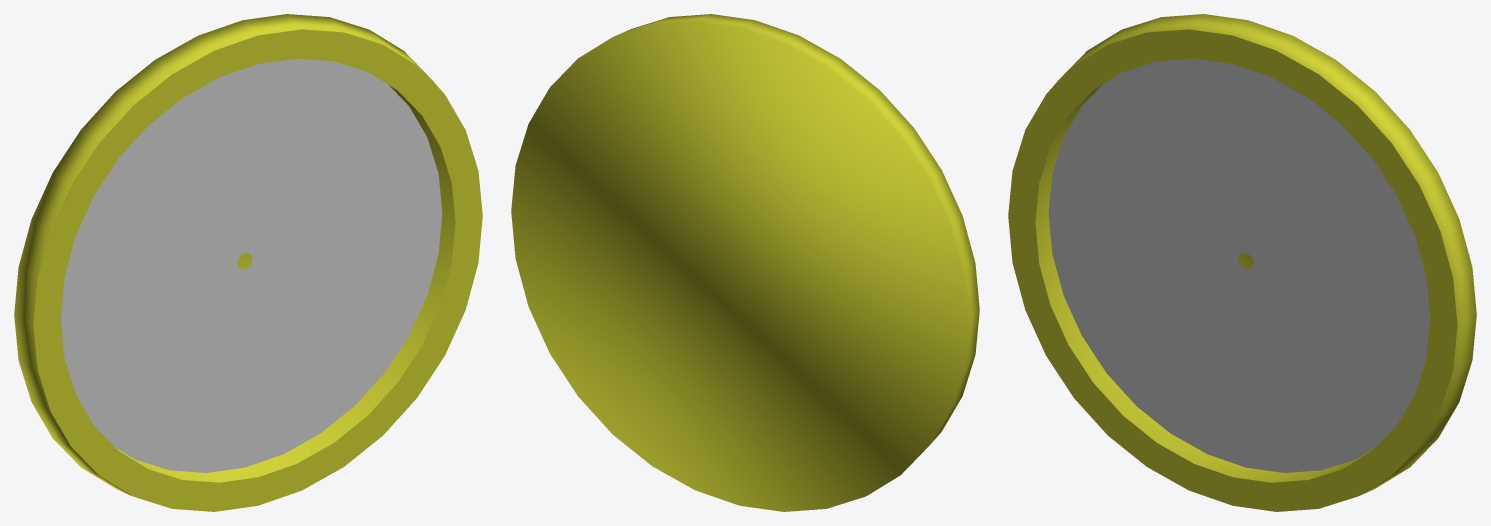
File: Zegar.fbx
The picture shows the model from 3 angles, left to right: view 1: azimuth 30°, elevation 25°; view 2: azimuth 150°, elevation 25°; view 3: azimuth 330°, elevation 25°; orthographic projection.
Parts seen in each view (by area): view 1: Zegar; view 2: Zegar; view 3: Zegar.
Boxes of the visible parts, x1,y1,x2,y2 form: Zegar: (14,14,482,511); Zegar: (511,14,979,511); Zegar: (1008,14,1476,511).
Size of the model in its own units: 100 by 5.93 by 100.
